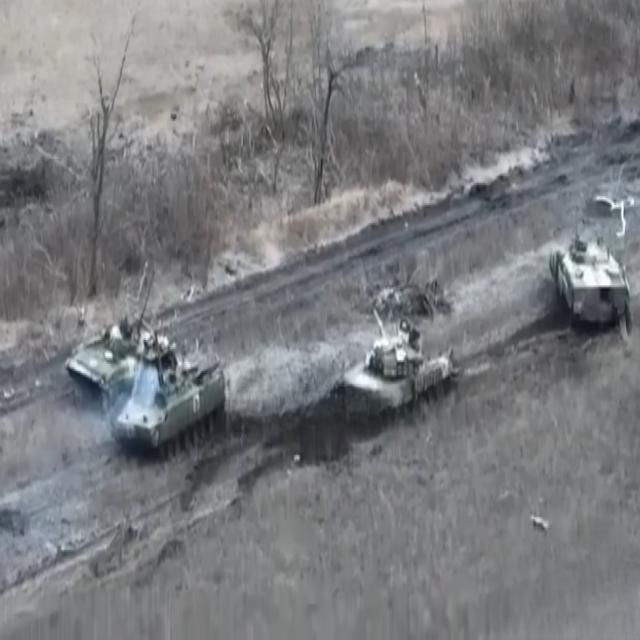AIFV: (109, 357, 229, 466), (64, 319, 178, 405), (550, 231, 634, 333)
MBT: (335, 308, 454, 427)
